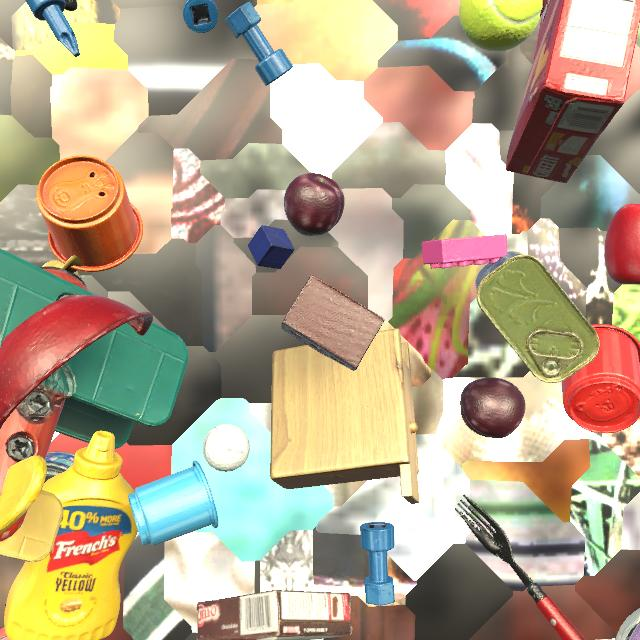ycb_003_cracker_box: (506, 0, 640, 183)
ycb_006_mustard_bottle: (4, 431, 138, 640)
ycb_007_tuna_fish_can: (44, 451, 75, 483)
ycb_008_pudding_box: (196, 590, 353, 640), (0, 626, 10, 640)
ycb_010_potted_meat_can: (475, 251, 600, 383)
ycb_012_strawberry: (540, 0, 548, 17)
ycb_013_apple: (604, 204, 640, 285)
ycb_018_plum: (460, 377, 525, 438), (284, 173, 345, 236)
